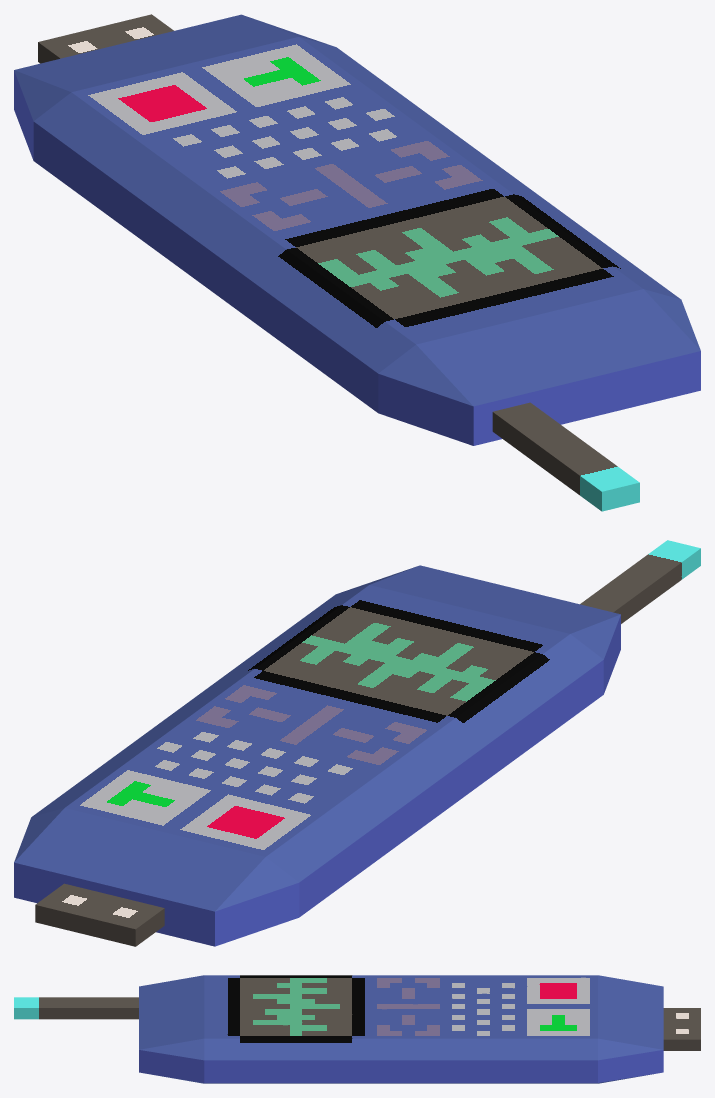
The model's file is Recorder.gltf.
3 views of the same model, one above another, from view 1: azimuth 30°, elevation 25°; view 2: azimuth 150°, elevation 25°; view 3: azimuth 270°, elevation 25° (orthographic). The views are drawn at different scales.
Parts seen in each view (by area): view 1: beveled_cuboid; view 2: beveled_cuboid; view 3: beveled_cuboid.
Part boxes in pixels (<box>): beveled_cuboid: <box>14,14,700,511</box>; beveled_cuboid: <box>14,540,700,946</box>; beveled_cuboid: <box>14,975,700,1083</box>.
Size of the model in its own units: 1 by 0.25 by 3.44.
Materials: 1 (1 with a texture image).
